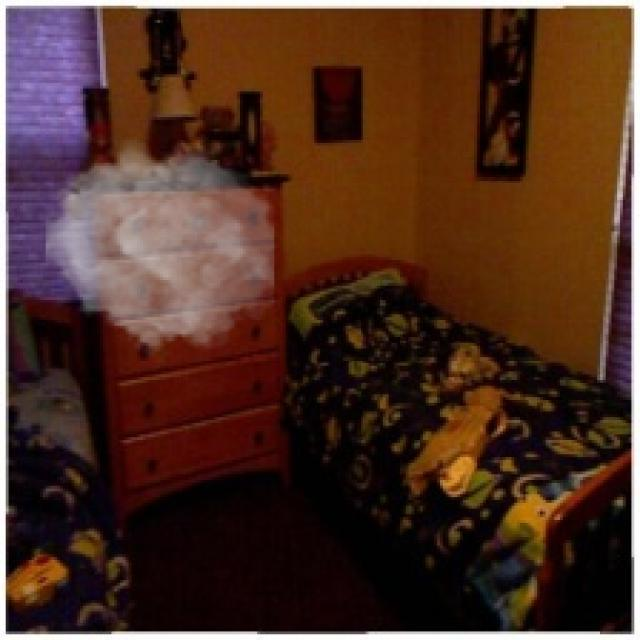Smoke: (46, 137, 274, 357)
